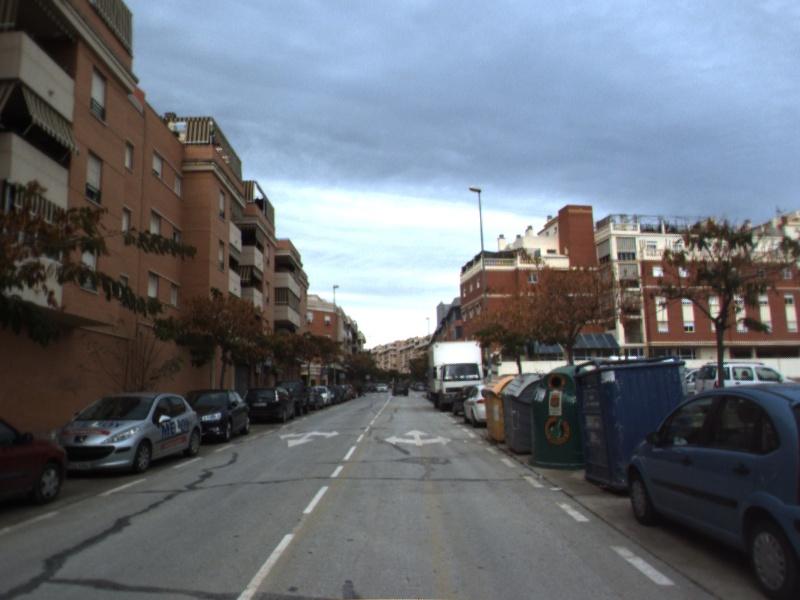STRAIGHT_LEFT_RIGHT: (382, 427, 454, 448)
